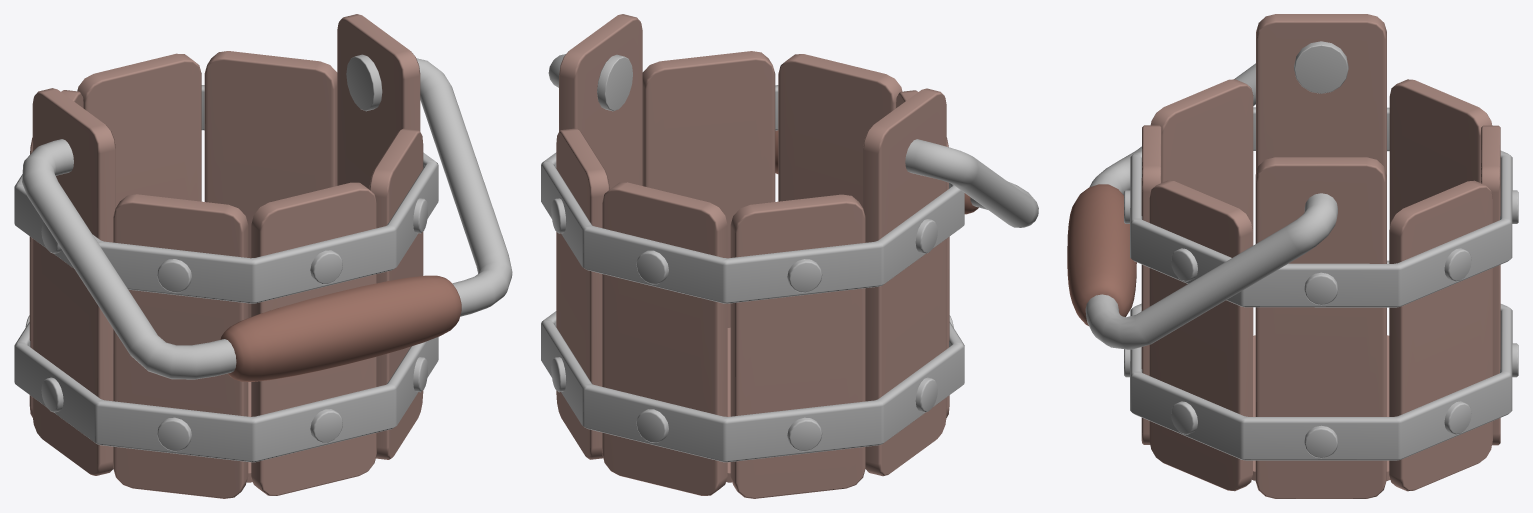
File: Farm_13_Bucket_1.glb
The picture shows the model from 3 angles, left to right: view 1: azimuth 30°, elevation 25°; view 2: azimuth 150°, elevation 25°; view 3: azimuth 270°, elevation 25°; orthographic projection. The views are drawn at different scales.
Parts seen in each view (by area): view 1: Farm_13_Bucket_1; view 2: Farm_13_Bucket_1; view 3: Farm_13_Bucket_1.
Part boxes in pixels (box(x1,y1,x2,y2)): Farm_13_Bucket_1: box(14, 14, 512, 498); Farm_13_Bucket_1: box(541, 14, 1038, 498); Farm_13_Bucket_1: box(1067, 14, 1518, 498).
Size of the model in its own units: 0.6937 by 0.5441 by 0.6642.
1 material, 1 textured.
